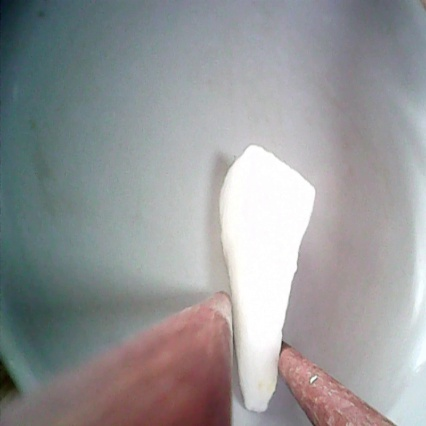white_chinese-yam: (216, 146, 319, 426)
